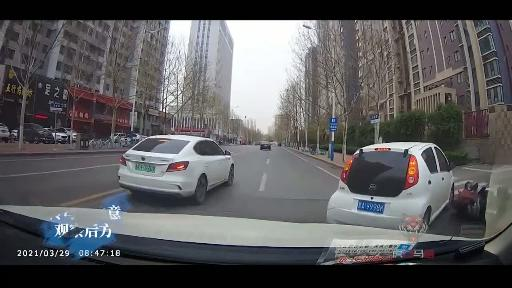Accident: (332, 138, 492, 224)
CAR: (122, 133, 239, 202), (260, 139, 274, 154)
